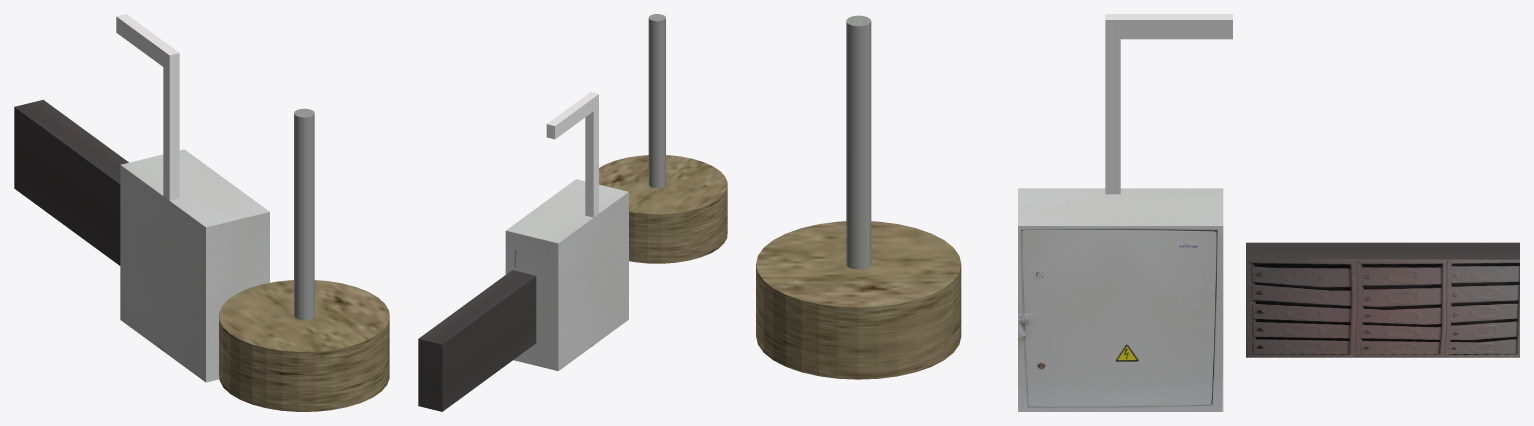
The model's file is ASSET2.fbx.
3 views of the same model, side by side, from view 1: azimuth 30°, elevation 25°; view 2: azimuth 150°, elevation 25°; view 3: azimuth 270°, elevation 25° (orthographic). The views are drawn at different scales.
Parts seen in each view (by area): view 1: Cube, Cylinder, Cube.001; view 2: Cube, Cylinder, Cube.001; view 3: Cube, Cylinder, Cube.001.
Part boxes in pixels (<box>): Cube: <box>116,14,269,382</box>; Cylinder: <box>219,108,389,411</box>; Cube.001: <box>14,99,128,265</box>; Cube: <box>505,92,628,371</box>; Cylinder: <box>599,14,727,263</box>; Cube.001: <box>418,270,536,411</box>; Cube: <box>1018,14,1232,411</box>; Cylinder: <box>756,15,961,379</box>; Cube.001: <box>1246,242,1519,357</box>.
Bounding box in the file's own units: 200 × 400 × 744.
